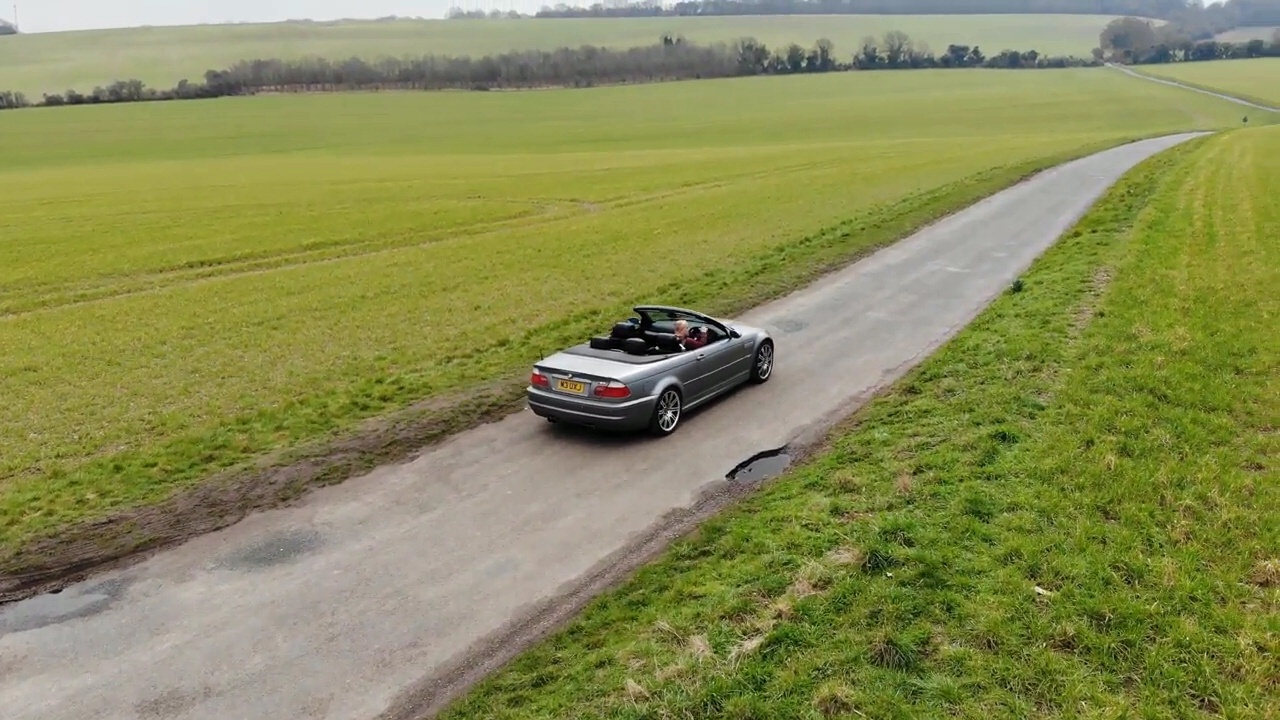araba: (523, 301, 774, 436)
